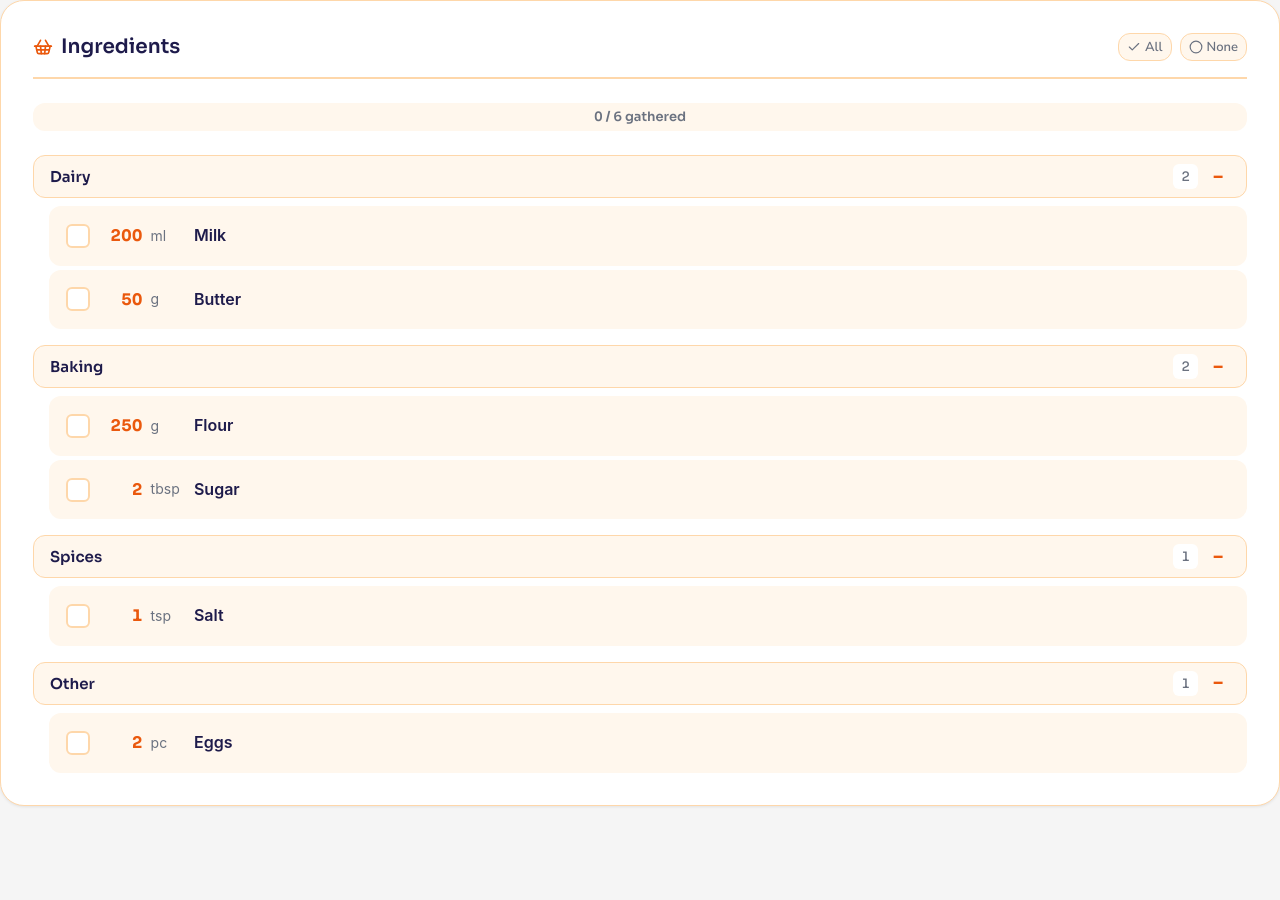
it: IngredientList › updates progress when ingredients are checked
The image size is (1280, 900).
Expected: the text "0 / 6 gathered" is shown, [594, 108, 686, 125]
Step 1. Click the checkbox labelled "200 ml Milk" → (126, 236), box [66, 224, 226, 248]
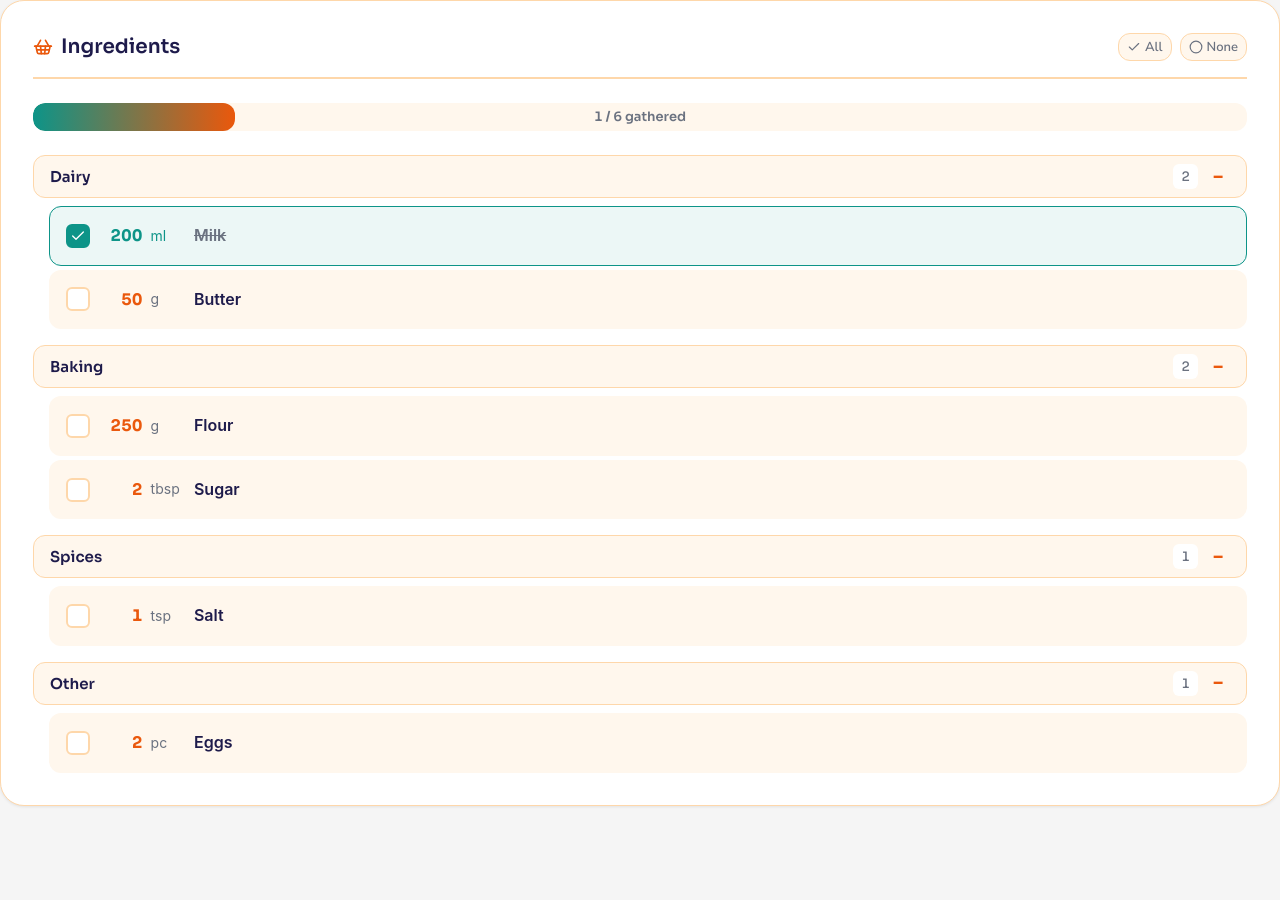
Now the text "1 / 6 gathered" is shown, box [594, 108, 686, 125]
